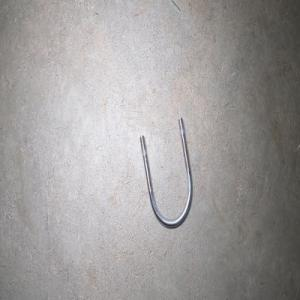ClampPart: (139, 117, 193, 229)
